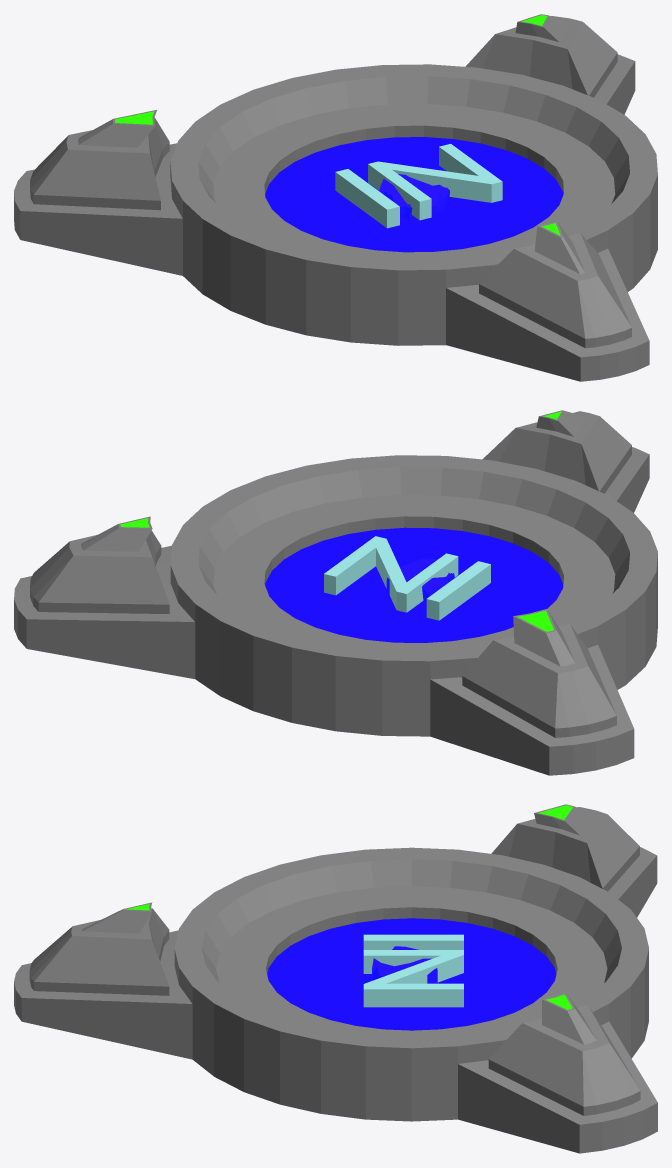
File: TeleporterInAnim.glb
The picture shows the model from 3 angles, top to bottom: view 1: azimuth 30°, elevation 25°; view 2: azimuth 150°, elevation 25°; view 3: azimuth 270°, elevation 25°; orthographic projection. The views are drawn at different scales.
Visible parts, largest first — view 1: Cylinder, IN, Cylinder.001; view 2: Cylinder, IN, Cylinder.001; view 3: Cylinder, IN, Cylinder.001.
Part boxes in pixels (x1,y1,x2,y2): Cylinder: [14, 14, 657, 381]; IN: [335, 144, 502, 228]; Cylinder.001: [379, 174, 449, 217]; Cylinder: [14, 410, 657, 775]; IN: [324, 536, 490, 620]; Cylinder.001: [386, 558, 454, 603]; Cylinder: [14, 804, 657, 1153]; IN: [363, 934, 463, 1007]; Cylinder.001: [372, 946, 438, 983].
Bounding box in the file's own units: 1.95 × 0.3648 × 1.82.
